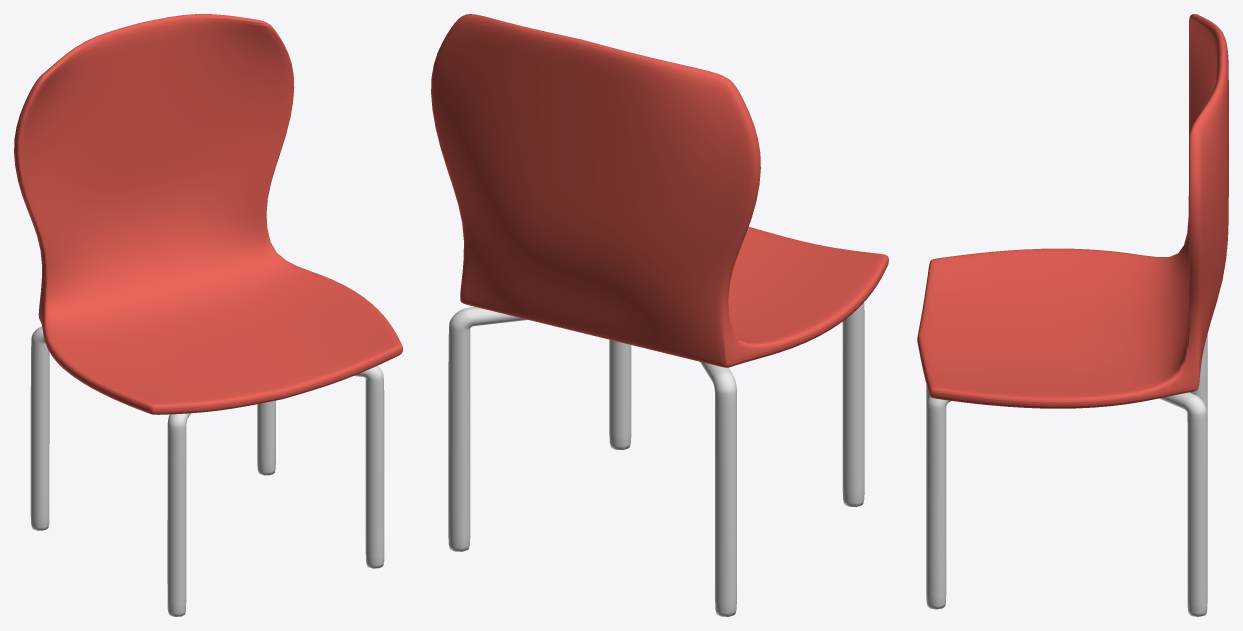
The model's file is plasticchair.fbx.
3 views of the same model, side by side, from view 1: azimuth 30°, elevation 25°; view 2: azimuth 150°, elevation 25°; view 3: azimuth 270°, elevation 25° (orthographic). The views are drawn at different scales.
Parts seen in each view (by area): view 1: Plane.001, Cylinder.001; view 2: Plane.001, Cylinder.001; view 3: Plane.001, Cylinder.001.
Boxes of the visible parts, left/top/right/bottom form: Plane.001: left=14, top=14, right=402, bottom=414; Cylinder.001: left=30, top=326, right=384, bottom=616; Plane.001: left=431, top=14, right=888, bottom=367; Cylinder.001: left=448, top=302, right=864, bottom=616; Plane.001: left=917, top=14, right=1228, bottom=408; Cylinder.001: left=926, top=334, right=1207, bottom=616.
Size of the model in its own units: 57.5 by 87.68 by 49.59.
